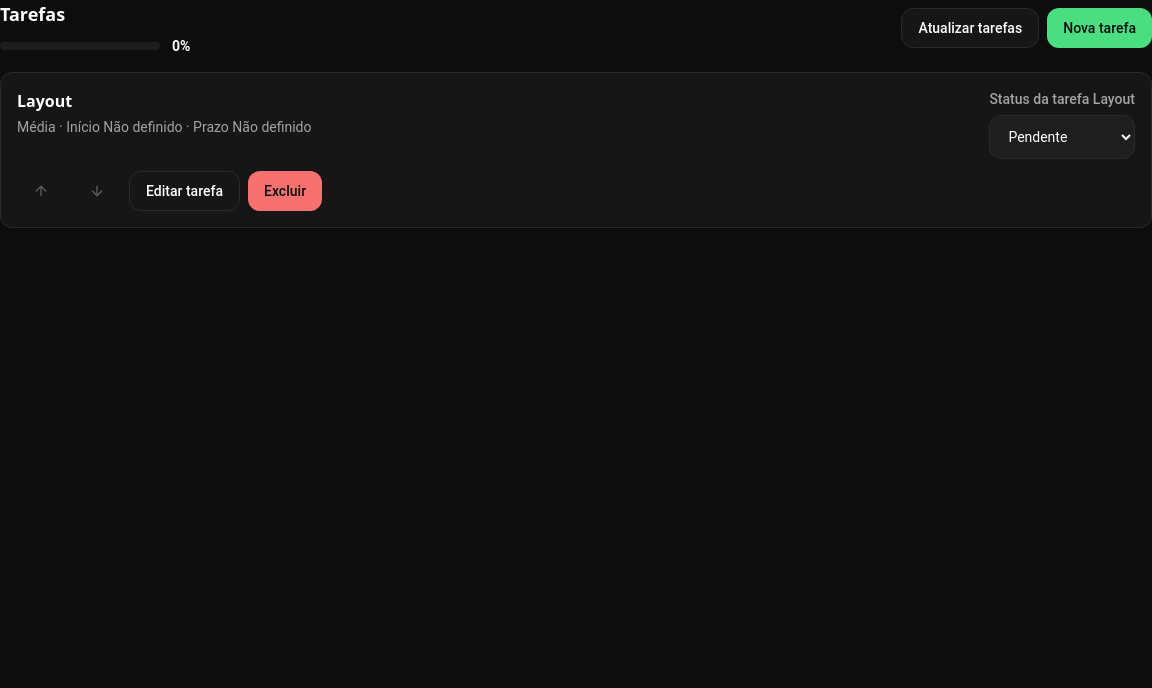
Test: ProjectTaskList › preserva edição confirmada quando o refresh falha
Click the button with aria-label "Editar tarefa Layout". click: x=184, y=191
box: top-left (129, 171), bottom-right (240, 211)
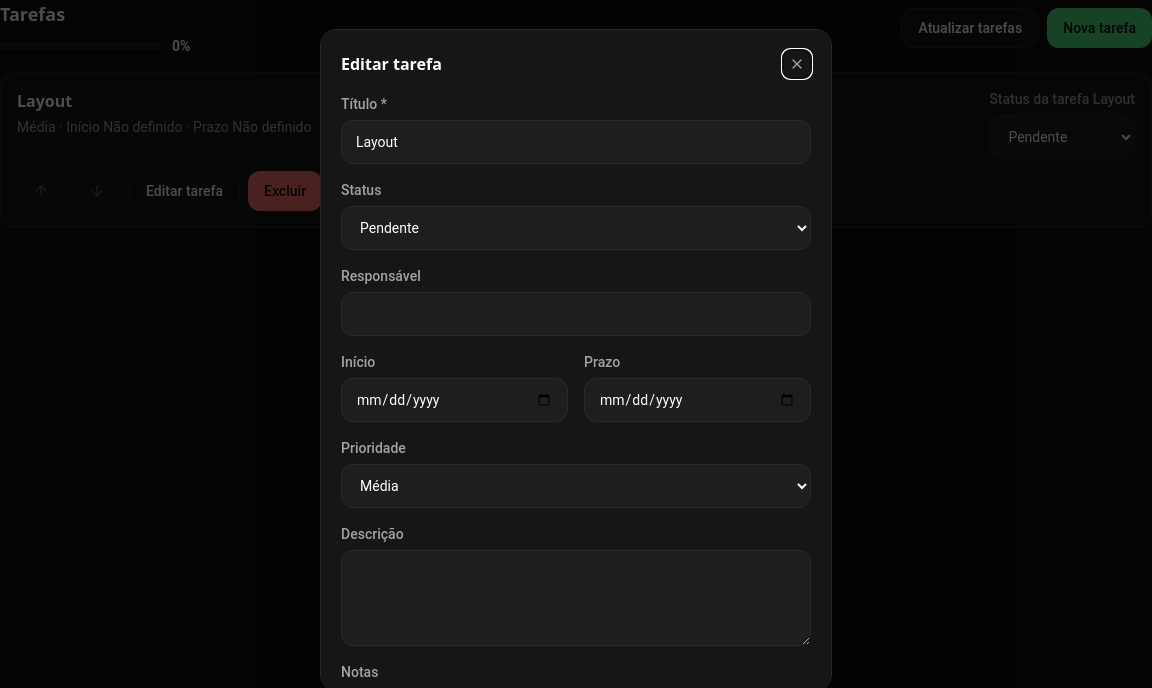
Replace the text in the field labelled "Título *" with "Layout atualizado". click: x=576, y=142
box: top-left (341, 120), bottom-right (811, 164)
(page scrolled)
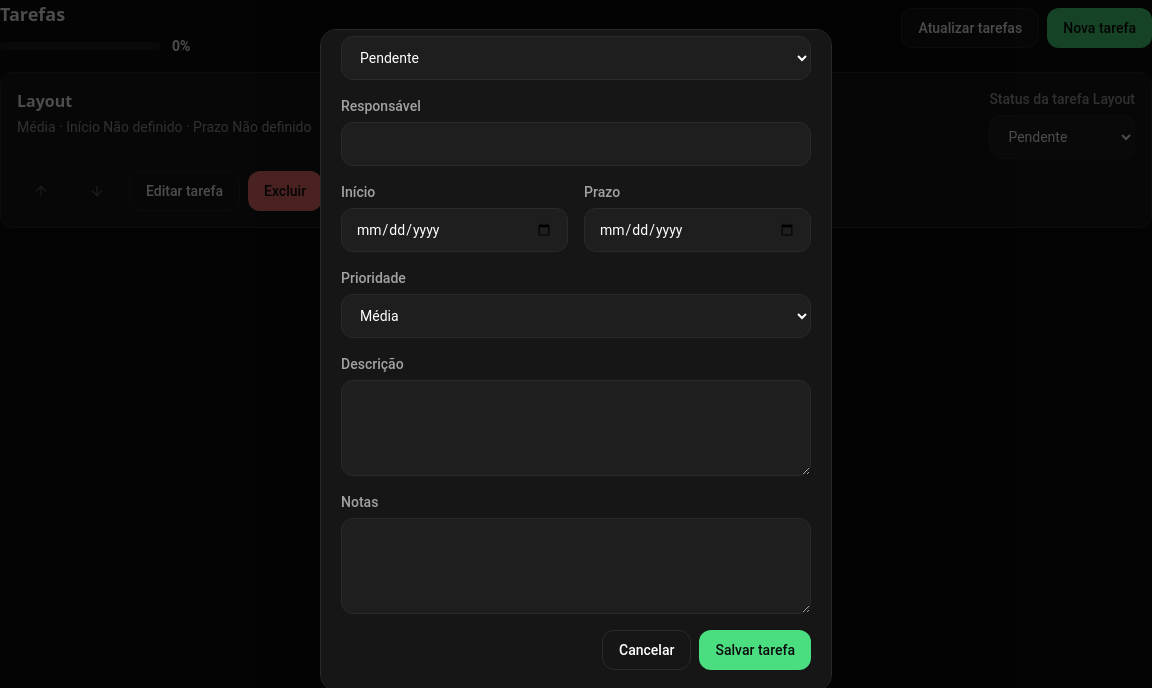
Click the button "Salvar tarefa". click: x=755, y=650
box: top-left (700, 630), bottom-right (811, 670)
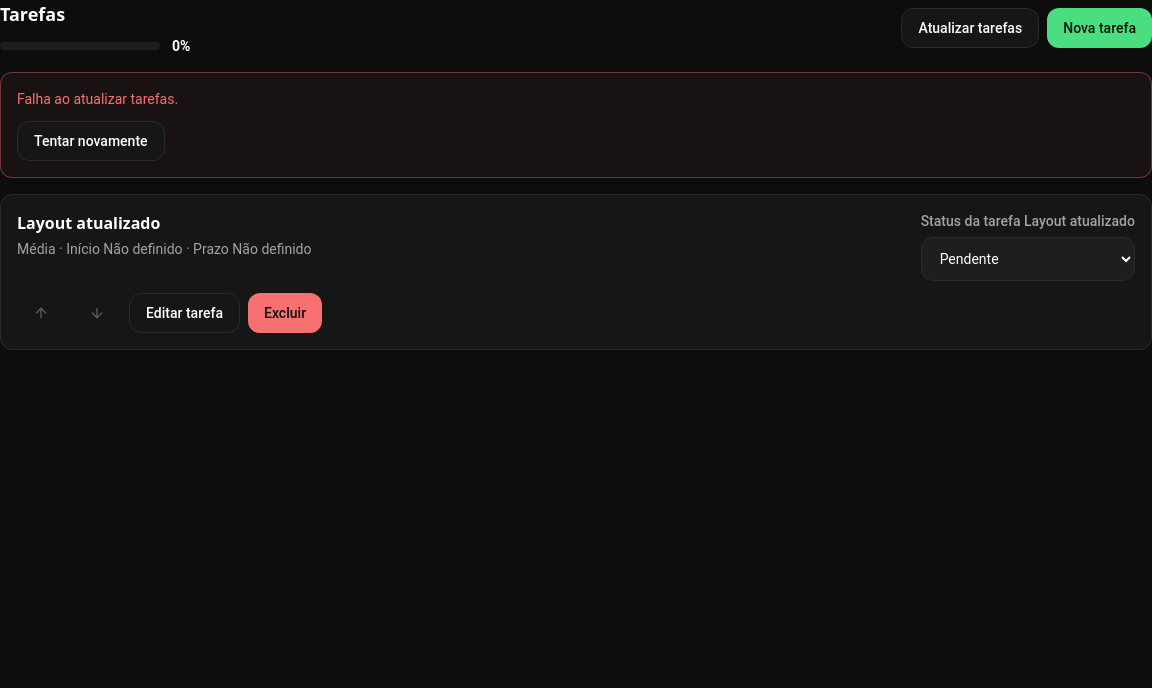
Check: the heading "Layout atualizado" is shown, box top-left (17, 212), bottom-right (160, 234)
